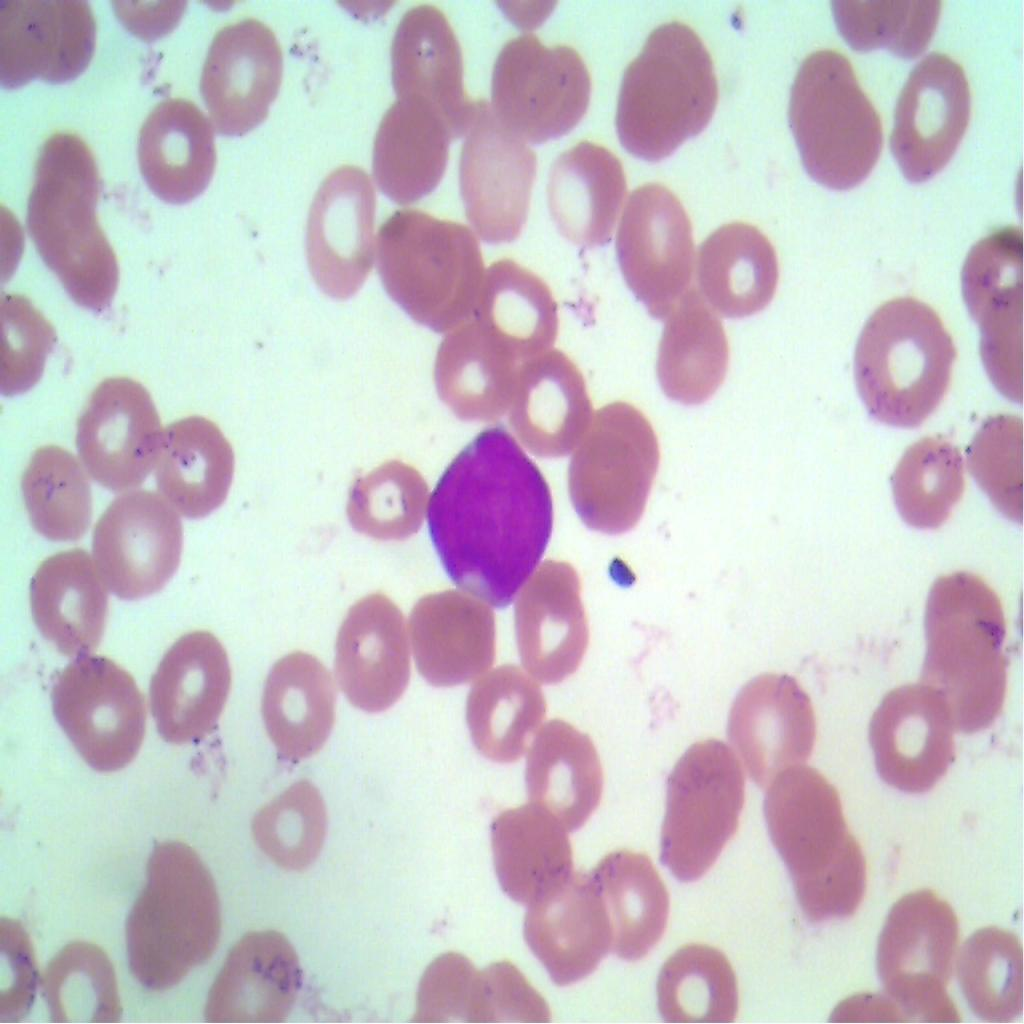Eritrosit: (48, 649, 150, 788), (568, 394, 666, 536), (660, 734, 746, 895), (792, 48, 886, 195), (848, 291, 951, 424), (323, 575, 416, 717), (258, 641, 358, 771), (144, 621, 238, 758), (86, 488, 190, 610), (886, 58, 978, 194), (510, 548, 596, 691), (289, 154, 376, 294), (458, 103, 538, 255), (491, 24, 594, 142), (198, 17, 292, 145), (690, 202, 784, 328), (129, 88, 224, 212), (869, 677, 956, 811), (726, 668, 821, 790), (543, 132, 634, 258), (32, 197, 122, 322), (500, 344, 594, 462), (382, 208, 476, 324), (878, 872, 956, 1010), (615, 177, 691, 317), (240, 765, 330, 882), (388, 9, 475, 130), (198, 924, 304, 1023), (523, 874, 608, 997), (484, 802, 573, 917), (73, 362, 158, 481), (882, 421, 968, 538), (588, 842, 669, 965), (522, 719, 606, 837), (406, 584, 498, 691), (436, 307, 515, 426), (31, 547, 113, 660), (146, 837, 222, 958), (654, 296, 728, 420), (642, 17, 719, 136), (456, 654, 538, 765), (18, 435, 99, 547), (758, 757, 844, 862), (338, 456, 433, 550), (922, 618, 1003, 728), (366, 101, 450, 207), (476, 252, 559, 357), (159, 414, 236, 524), (949, 912, 1023, 1023), (38, 935, 130, 1023), (921, 562, 1006, 657), (19, 130, 106, 221), (118, 884, 193, 989), (802, 820, 872, 924), (618, 54, 686, 159), (656, 942, 739, 1023)
Limfoblast: (421, 420, 555, 604)
Platelet: (602, 552, 638, 602), (722, 1, 750, 41)
